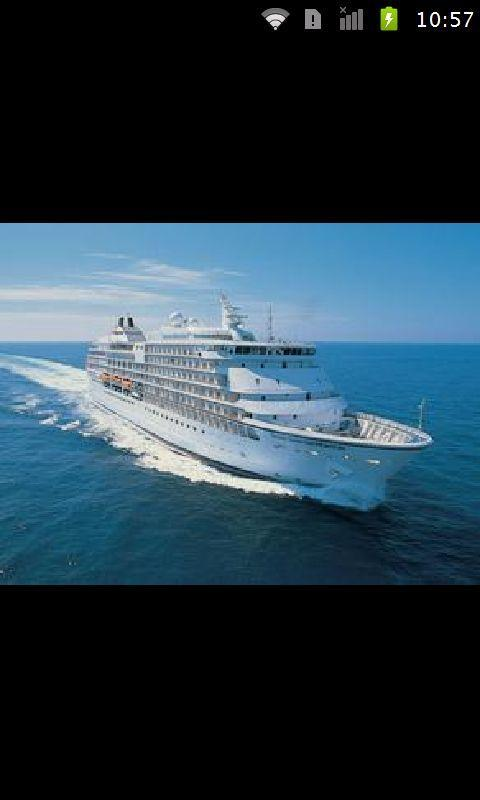youlun: (80, 296, 433, 507)
